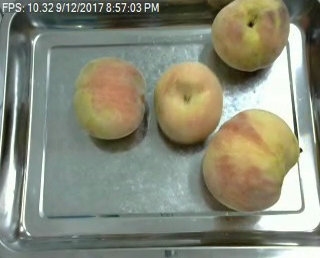Peach: (202, 106, 297, 212), (72, 57, 146, 141), (154, 61, 223, 144), (211, 0, 289, 72)
